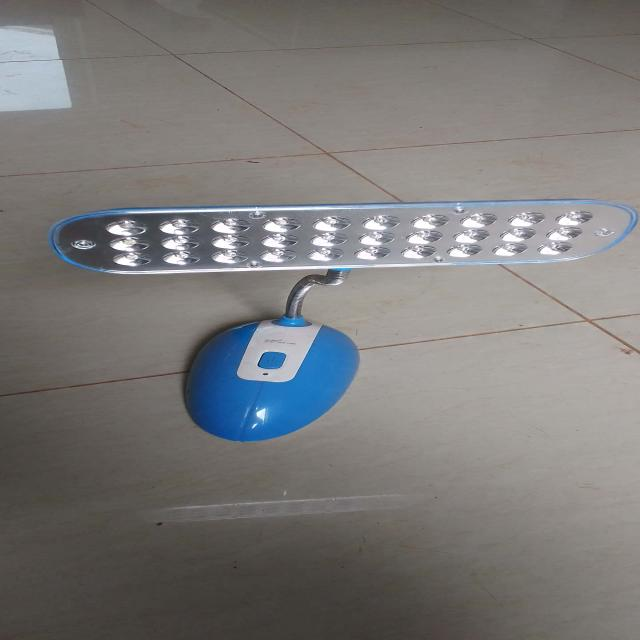Lantern: (35, 186, 633, 453)
